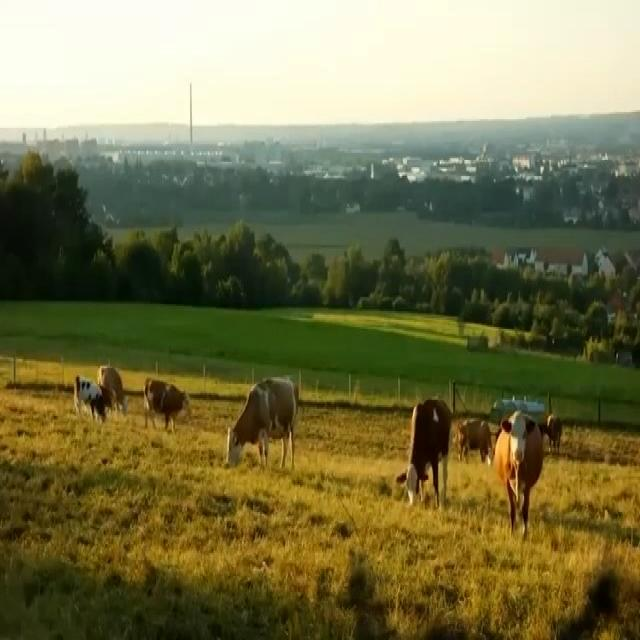COW: (227, 380, 299, 467), (494, 411, 542, 534), (399, 398, 451, 503), (146, 381, 188, 429), (460, 444, 490, 459)
